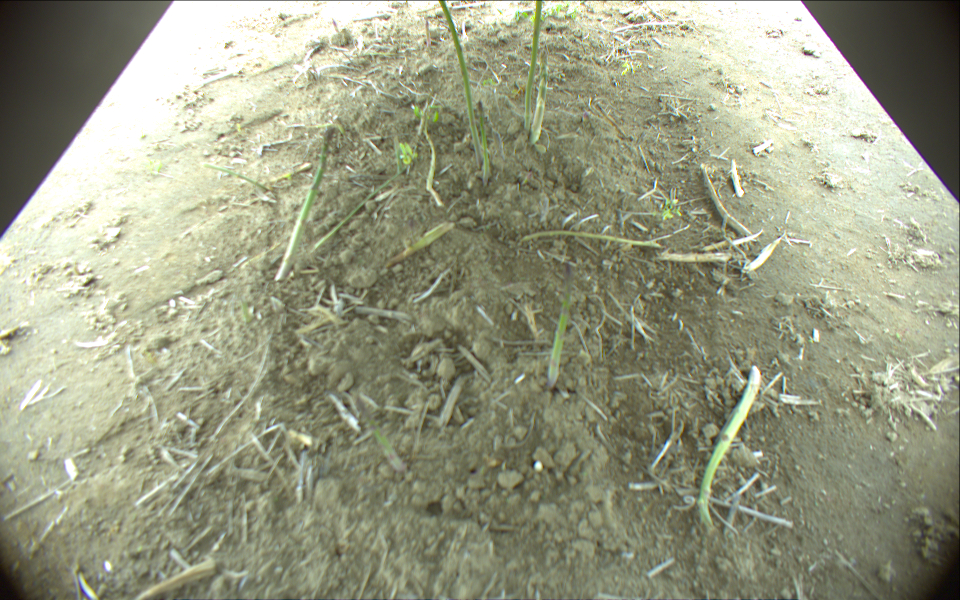aspa: (697, 363, 763, 526), (310, 163, 409, 256), (276, 124, 334, 282), (436, 1, 481, 167), (546, 261, 574, 392), (386, 222, 455, 266), (523, 229, 659, 251), (419, 105, 444, 206), (524, 1, 544, 127), (528, 45, 551, 142), (202, 163, 274, 193), (476, 99, 495, 180), (389, 136, 407, 175), (332, 19, 342, 39), (425, 20, 432, 48)
